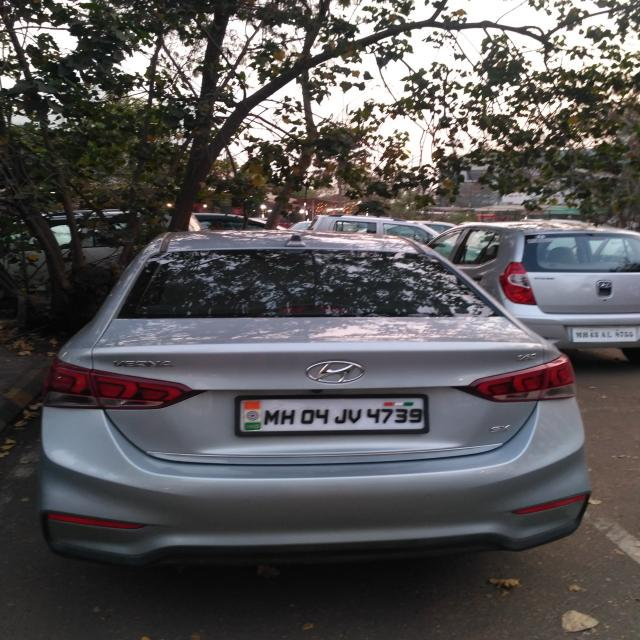Number-Plate: (238, 397, 429, 433), (572, 325, 639, 343)
